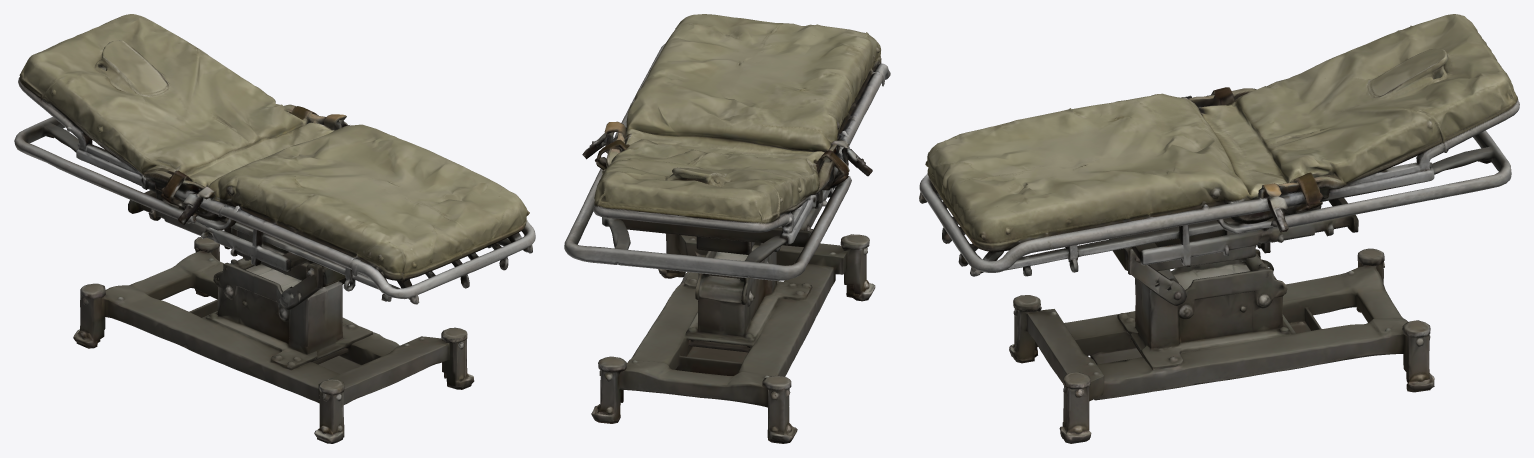
Rendered from shuttle_exam_table.glb.
3 views of the same model, side by side, from view 1: azimuth 30°, elevation 25°; view 2: azimuth 150°, elevation 25°; view 3: azimuth 270°, elevation 25° (orthographic). The views are drawn at different scales.
Parts seen in each view (by area): view 1: tripo_node_0fc1c87f-b118-4a68-b18a-75924a612dbf; view 2: tripo_node_0fc1c87f-b118-4a68-b18a-75924a612dbf; view 3: tripo_node_0fc1c87f-b118-4a68-b18a-75924a612dbf.
Part boxes in pixels (x1,y1,x2,y2): tripo_node_0fc1c87f-b118-4a68-b18a-75924a612dbf: (14,14,535,443); tripo_node_0fc1c87f-b118-4a68-b18a-75924a612dbf: (564,14,890,443); tripo_node_0fc1c87f-b118-4a68-b18a-75924a612dbf: (919,14,1519,443).
Size of the model in its own units: 0.6643 by 0.5258 by 0.9801.
1 material, 1 textured.
